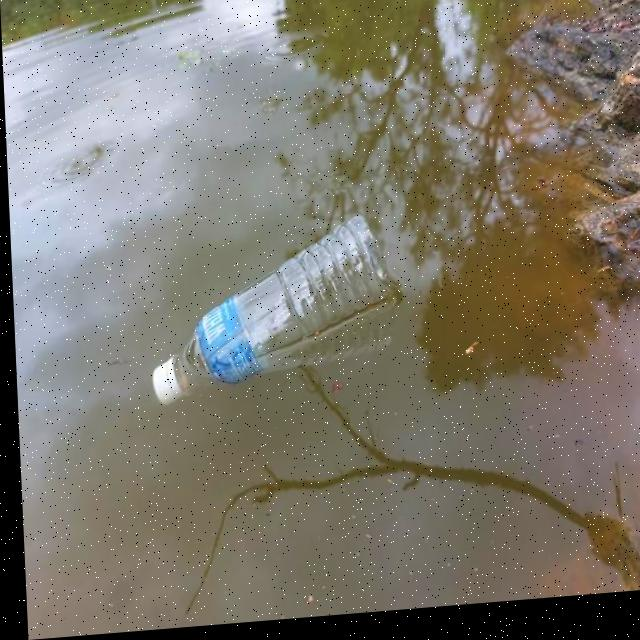waterbottle: (138, 204, 409, 412)
